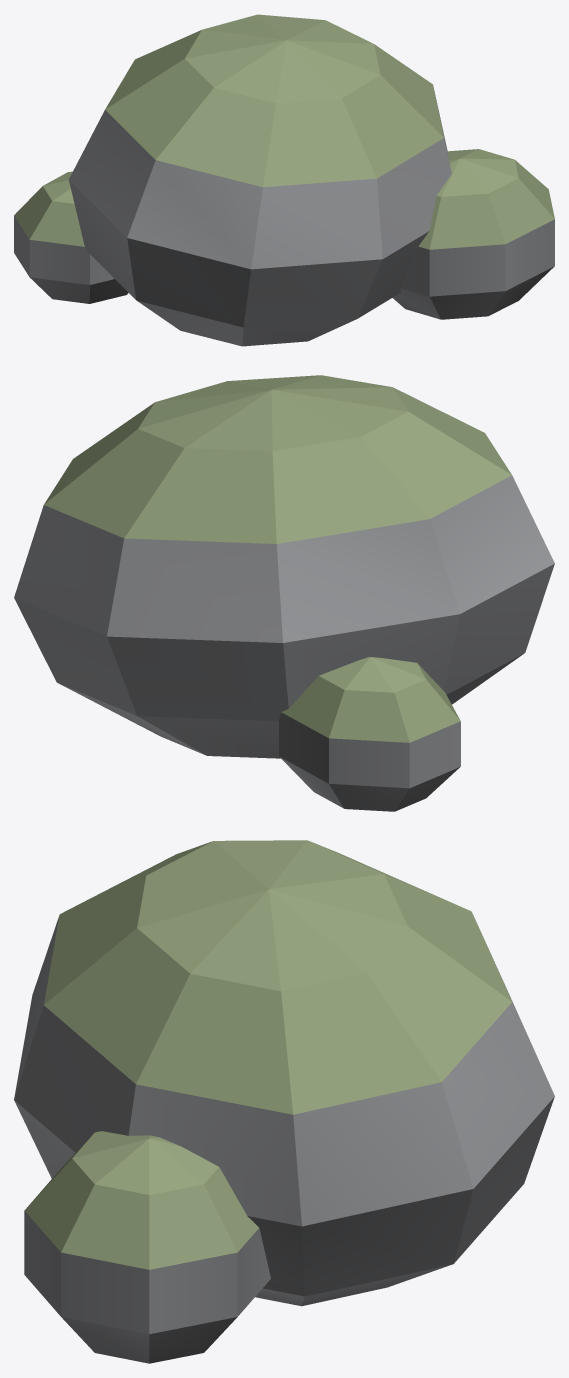
The model's file is Rock_Boulder.fbx.
3 views of the same model, one above another, from view 1: azimuth 30°, elevation 25°; view 2: azimuth 150°, elevation 25°; view 3: azimuth 270°, elevation 25° (orthographic). The views are drawn at different scales.
Parts seen in each view (by area): view 1: Res_Rock_Boulder; view 2: Res_Rock_Boulder; view 3: Res_Rock_Boulder.
Part boxes in pixels (left/top/right/bottom): Res_Rock_Boulder: left=14, top=14, right=554, bottom=346; Res_Rock_Boulder: left=14, top=375, right=554, bottom=811; Res_Rock_Boulder: left=14, top=840, right=554, bottom=1363.
Size of the model in its own units: 2.05 by 1.29 by 1.65.
